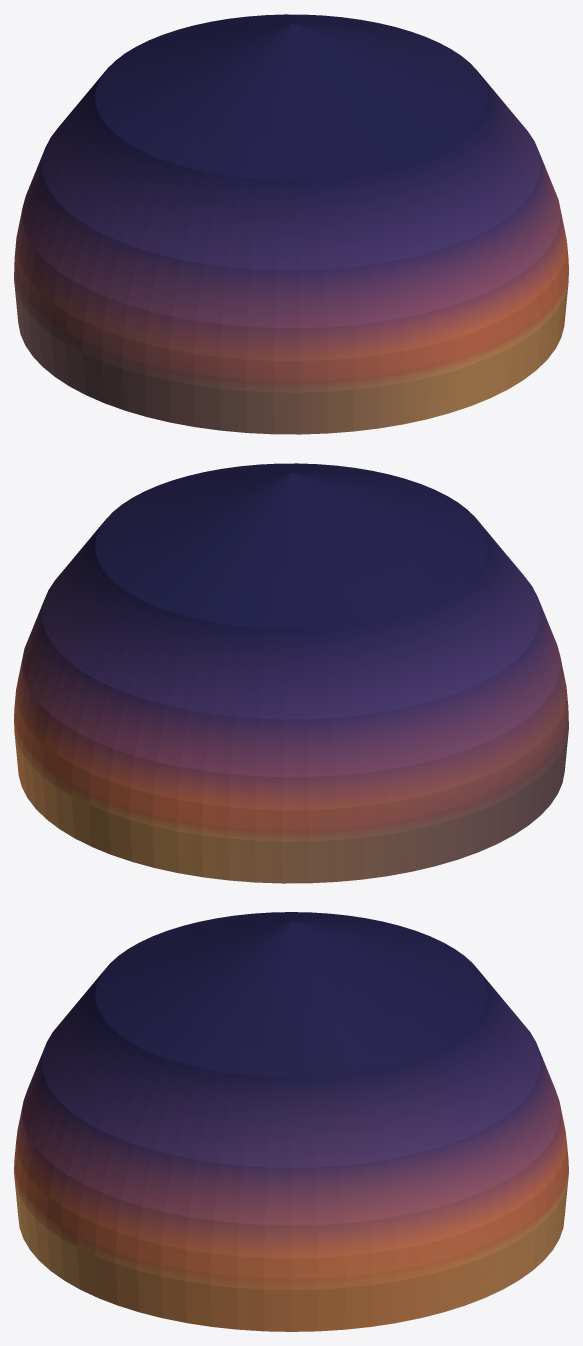
Rendered from FightNightPier.fbx.
The picture shows the model from 3 angles, top to bottom: view 1: azimuth 30°, elevation 25°; view 2: azimuth 150°, elevation 25°; view 3: azimuth 270°, elevation 25°; orthographic projection.
Visible parts, largest first — view 1: Sky; view 2: Sky; view 3: Sky.
Part boxes in pixels (x1,y1,x2,y2): Sky: (14, 14, 568, 434); Sky: (14, 463, 568, 883); Sky: (14, 912, 568, 1331).
Bounding box in the file's own units: 1800 × 1056 × 1800.
